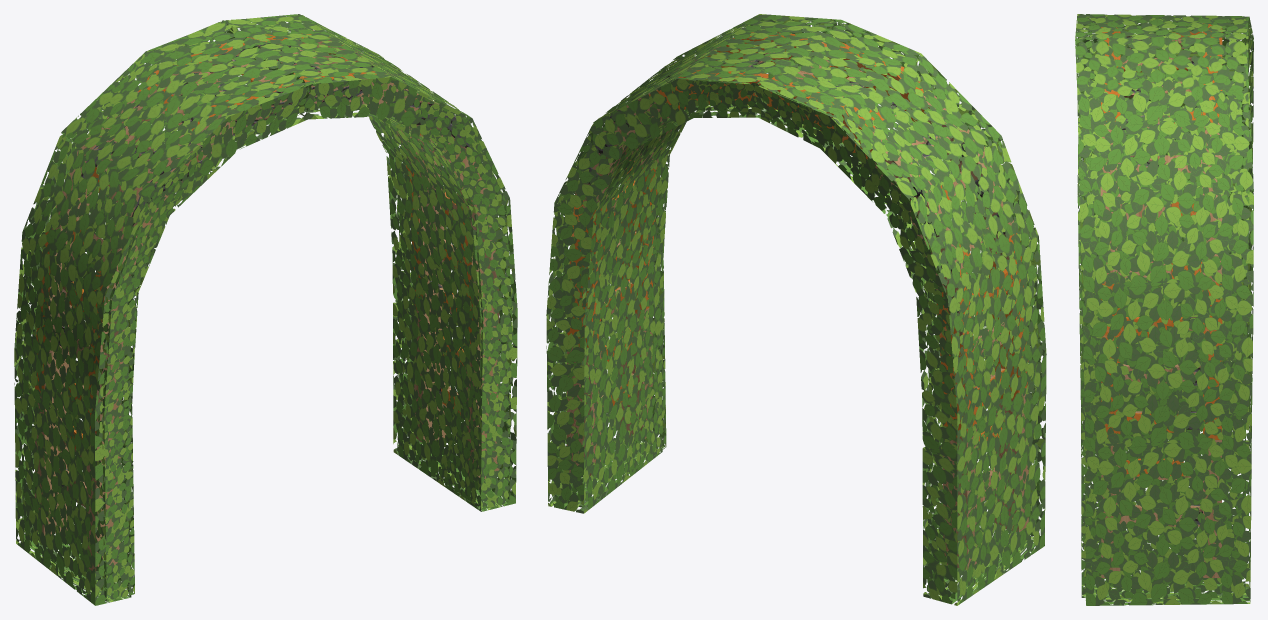
File: HedgeArchHand.fbx
3 renders of one model, left to right at view 1: azimuth 30°, elevation 25°; view 2: azimuth 150°, elevation 25°; view 3: azimuth 270°, elevation 25°, orthographic.
Visible parts, largest first — view 1: FencePost; view 2: FencePost; view 3: FencePost.
Boxes of the visible parts, x1,y1,x2,y2 form: FencePost: (14, 14, 517, 605); FencePost: (546, 14, 1046, 605); FencePost: (1075, 14, 1253, 605).
Bounding box in the file's own units: 1.34 × 1.43 × 0.4993.
